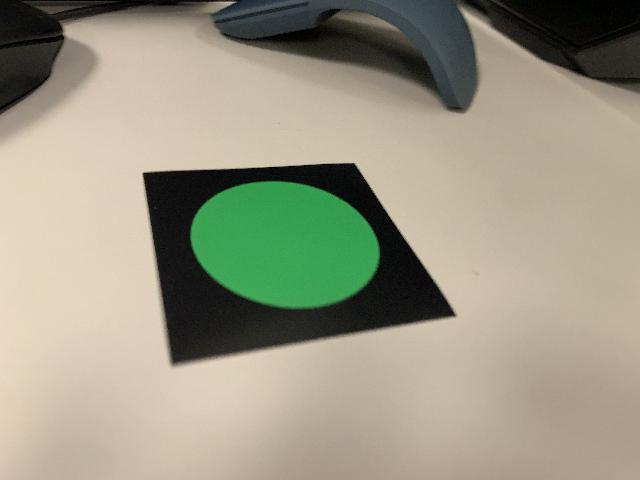go: (137, 156, 461, 368)
